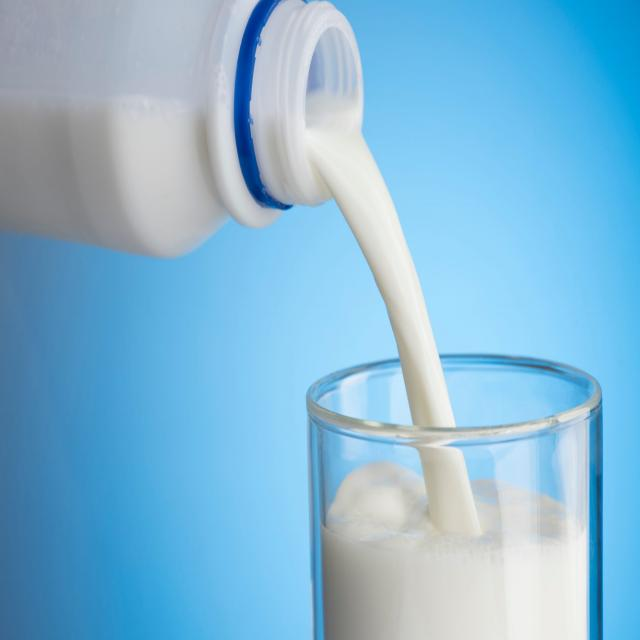Milk carton/jug: (321, 449, 588, 640)
